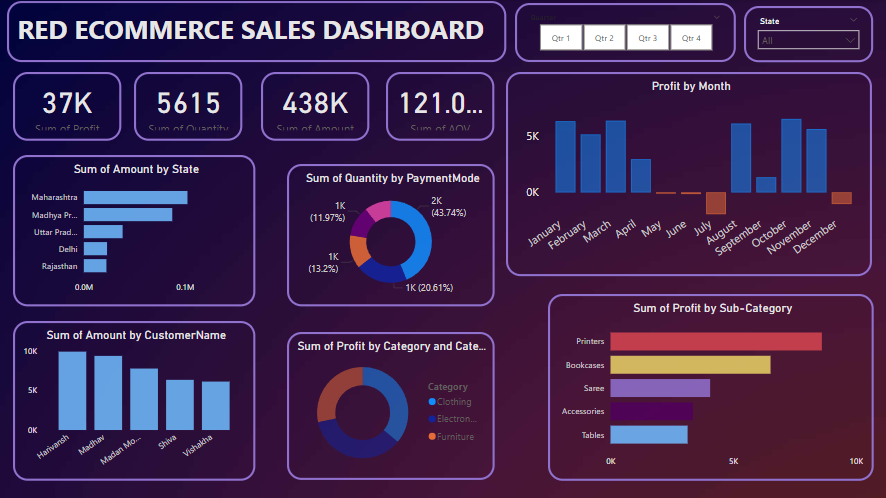

The page's visual inventory and layout, read from the dashboard file:
{"tool":"powerbi","page":{"name":"Page 1","canvas":[1280,720],"ordinal":0},"visuals":[{"type":"columnChart","title":"Profit by Month","fields":{"Category":["Orders.Order Date.Variation.Date Hierarchy.Month"],"Y":["Details.Profit"]},"box":[729,104.1,527.5,294],"z":0},{"type":"barChart","fields":{"Category":["Details.Sub-Category"],"Y":["Details.Profit"]},"box":[789.5,423.3,468.7,268.8],"z":1000},{"type":"donutChart","fields":{"Series":["Details.Category"],"Category":["Details.Category"],"Y":["Details.Profit"]},"box":[413.2,478.7,299,213.3],"z":2000},{"type":"donutChart","fields":{"Category":["Details.PaymentMode"],"Y":["Details.Quantity"]},"box":[413.2,236.9,299,204.9],"z":3000},{"type":"card","fields":{"Values":["Details.Profit"]},"box":[18.5,104.1,156.2,99.1],"z":4000},{"type":"card","fields":{"Values":["Details.Quantity"]},"box":[193.2,104.1,156.2,99.1],"z":5000},{"type":"card","fields":{"Values":["Details.Amount"]},"box":[376.3,104.1,156.2,99.1],"z":6000},{"type":"card","fields":{"Values":["Details.AOV"]},"box":[556,104.1,156.2,99.1],"z":7000},{"type":"barChart","fields":{"Category":["Orders.State"],"Y":["Details.Amount"]},"box":[18.5,223.4,349.4,218.4],"z":8000},{"type":"columnChart","fields":{"Category":["Orders.CustomerName"],"Y":["Details.Amount"]},"box":[18,462,349,230],"z":9000},{"type":"textbox","box":[10.1,1.4,718.6,87.8],"z":10000},{"type":"slicer","fields":{"Values":["Orders.Order Date.Variation.Date Hierarchy.Quarter"]},"box":[741.6,4.3,318.2,85],"z":10001},{"type":"slicer","fields":{"Values":["Orders.State"]},"box":[1071.4,8.6,185.8,80.6],"z":10002}]}

Visuals, with their boxes in screenshot pixels (x1, y1, x2, y2), scaled from the page's 1280x720 canvas onto the 886x498 screenshot:
"Profit by Month" columnChart: bbox=[505, 72, 870, 275]
barChart - Details.Sub-Category x Details.Profit: bbox=[546, 293, 871, 479]
donutChart - Details.Category x Details.Category: bbox=[286, 331, 493, 479]
donutChart - Details.PaymentMode x Details.Quantity: bbox=[286, 164, 493, 306]
card - Details.Profit: bbox=[13, 72, 121, 141]
card - Details.Quantity: bbox=[134, 72, 242, 141]
card - Details.Amount: bbox=[260, 72, 369, 141]
card - Details.AOV: bbox=[385, 72, 493, 141]
barChart - Orders.State x Details.Amount: bbox=[13, 155, 255, 306]
columnChart - Orders.CustomerName x Details.Amount: bbox=[12, 320, 254, 479]
textbox: bbox=[7, 1, 504, 62]
slicer - Orders.Order Date.Variation.Date Hierarchy.Quarter: bbox=[513, 3, 734, 62]
slicer - Orders.State: bbox=[742, 6, 870, 62]
